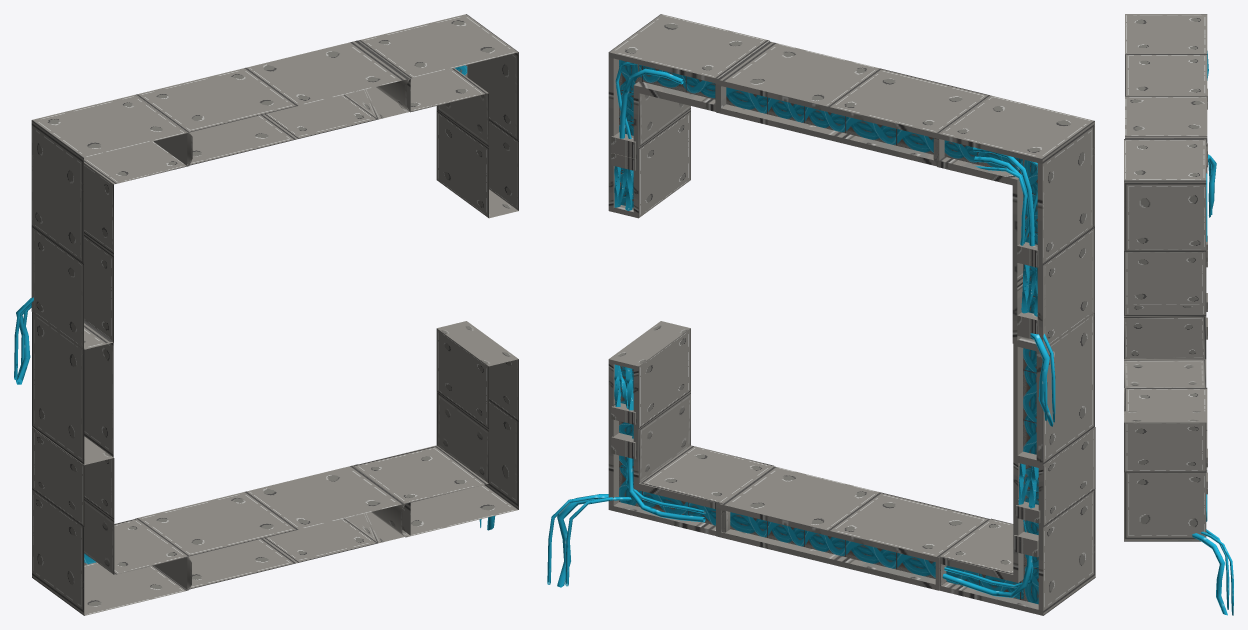
File: LoreRoomFBX.fbx
The picture shows the model from 3 angles, left to right: view 1: azimuth 30°, elevation 25°; view 2: azimuth 150°, elevation 25°; view 3: azimuth 270°, elevation 25°; orthographic projection. The views are drawn at different scales.
Visible parts, largest first — view 1: TopCornerWalll1, TopCornerWalll2, wallPiece8, TopCornerWalll, wallPiece9, TopCornerWalll3, SmallWallFBX; view 2: TopCornerWalll1, wallPiece8, wallPiece9, TopCornerWalll2, TopCornerWalll, TopCornerWalll3, SmallWallFBX; view 3: TopCornerWalll, TopCornerWalll2, wallPiece8, TopCornerWalll3, TopCornerWalll1, wallPiece9, CornerWire2, CornerWire11, CornerWire3, CornerWire5.
Boxes of the visible parts, x1,y1,x2,y2 form: TopCornerWalll1: (31,95,192,349); TopCornerWalll2: (353,321,518,537); wallPiece8: (135,40,410,165); TopCornerWalll: (358,14,518,218); wallPiece9: (135,464,410,589); TopCornerWalll3: (32,427,191,615); SmallWallFBX: (32,312,113,464); TopCornerWalll1: (933,95,1094,349); wallPiece8: (716,41,991,166); wallPiece9: (716,466,990,590); TopCornerWalll2: (608,321,773,535); TopCornerWalll: (608,14,769,218); TopCornerWalll3: (939,427,1095,615); SmallWallFBX: (1013,312,1094,465); TopCornerWalll: (1124,139,1206,305); TopCornerWalll2: (1124,411,1206,541); wallPiece8: (1125,53,1207,165); TopCornerWalll3: (1124,306,1206,411); TopCornerWalll1: (1125,14,1207,173); wallPiece9: (1125,387,1207,472); CornerWire2: (1192,533,1227,615); CornerWire11: (1208,154,1216,217); CornerWire3: (1201,531,1233,615); CornerWire5: (1206,529,1229,609).
Size of the model in its own units: 16.44 by 16.99 by 4.02.
